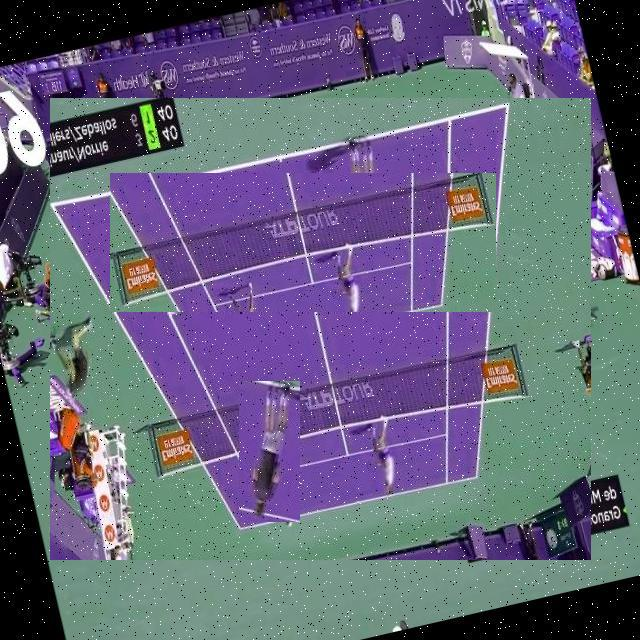court: (50, 99, 591, 560)
net: (110, 174, 496, 314)
player: (240, 381, 302, 522), (530, 256, 600, 344)
